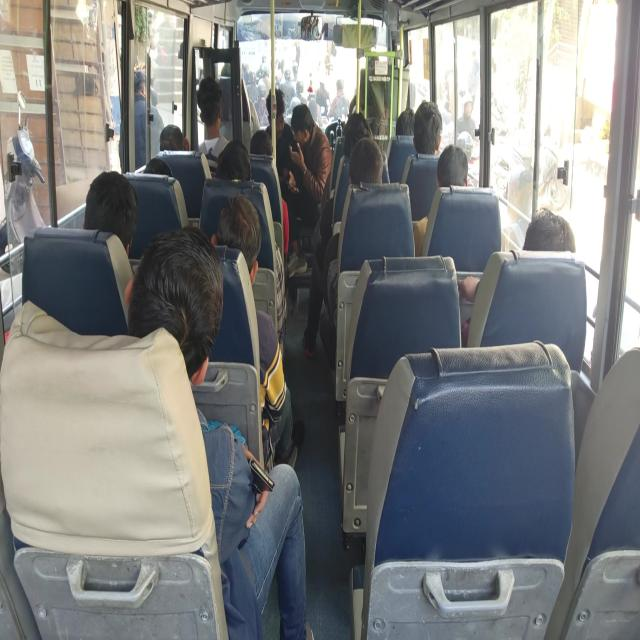person: (125, 232, 214, 397), (89, 158, 139, 235), (210, 193, 264, 256), (530, 197, 570, 270), (435, 137, 472, 196), (192, 75, 230, 125), (342, 140, 380, 183), (218, 144, 247, 195), (414, 104, 440, 160), (163, 118, 194, 154), (290, 108, 313, 154), (342, 118, 370, 153), (249, 122, 273, 155), (394, 108, 414, 146), (263, 92, 282, 122), (152, 152, 175, 173)
